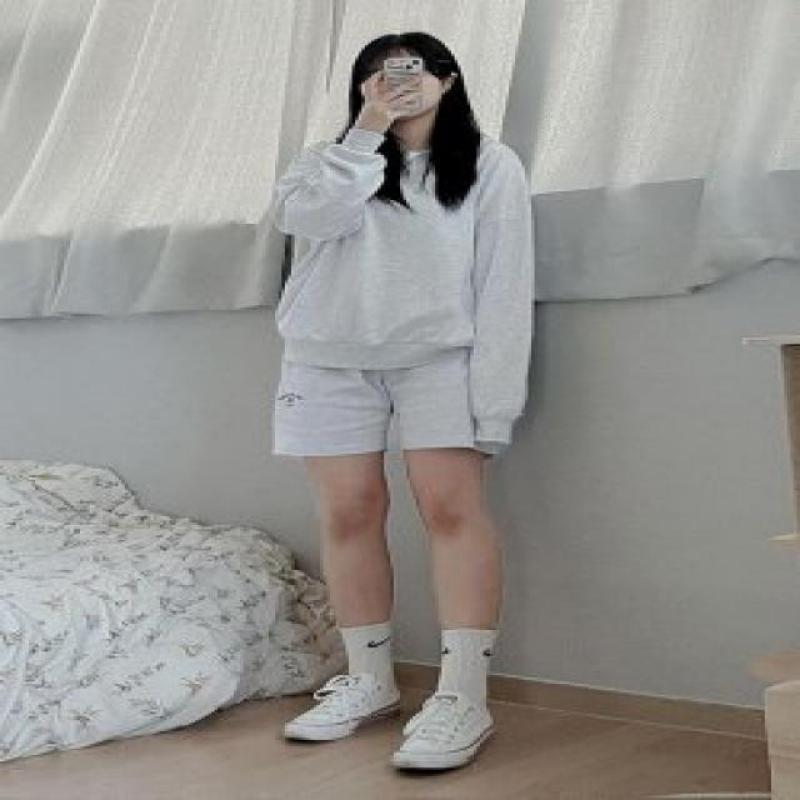Shorts: (269, 354, 495, 459)
sweater: (269, 125, 537, 448)
